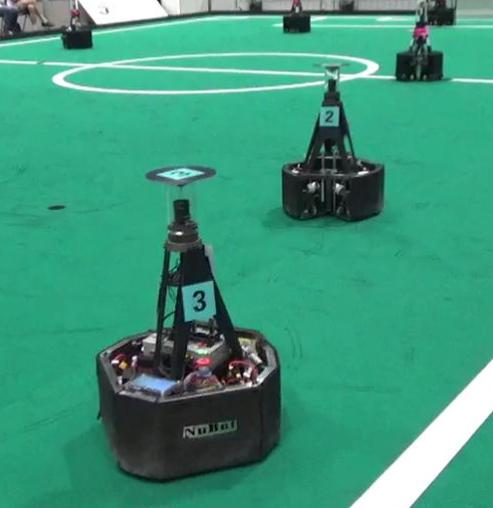robot: (83, 161, 289, 481), (280, 58, 388, 225), (388, 1, 456, 86)
